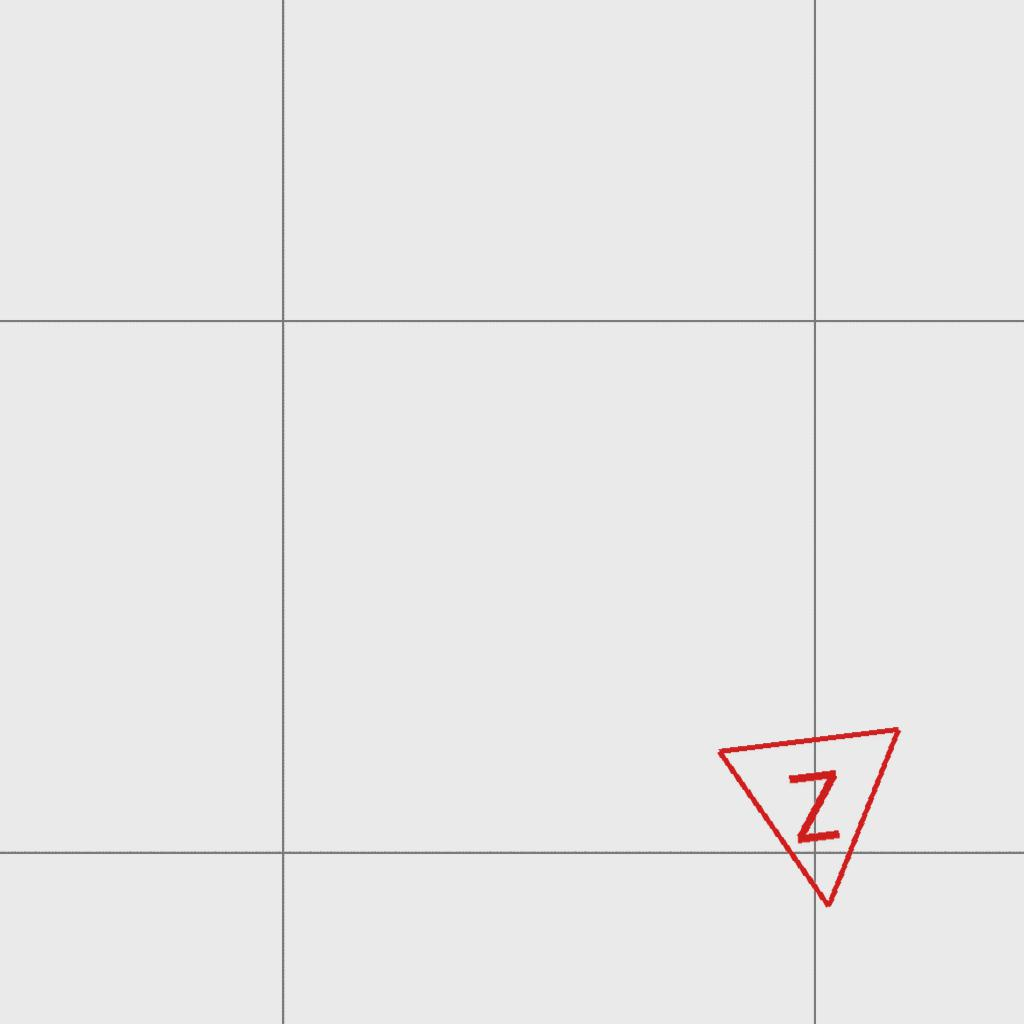Zimmersignalleuchte: (711, 710, 931, 934)
